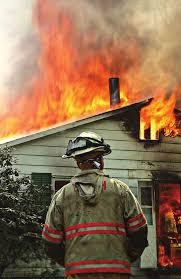fire: (16, 12, 181, 143)
